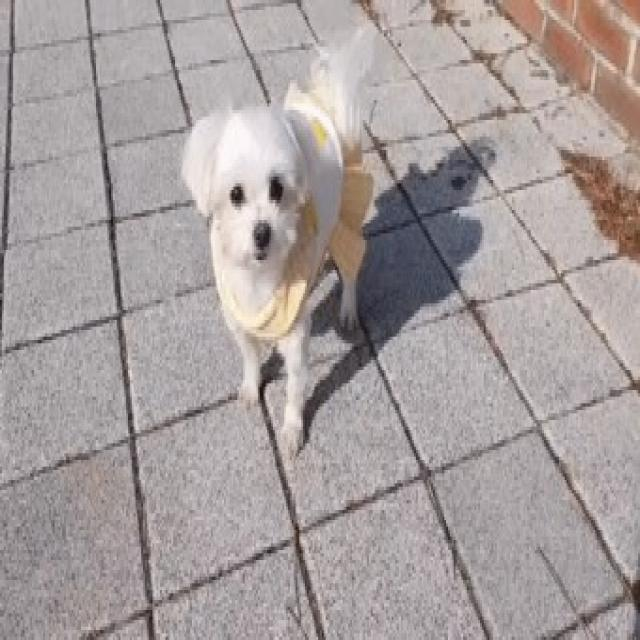cloth: (215, 84, 372, 342)
